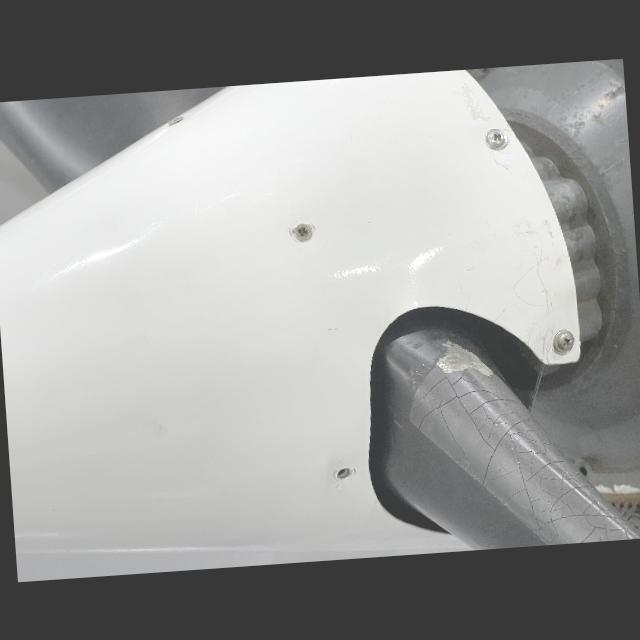Missing Fastener: (328, 462, 355, 482)
